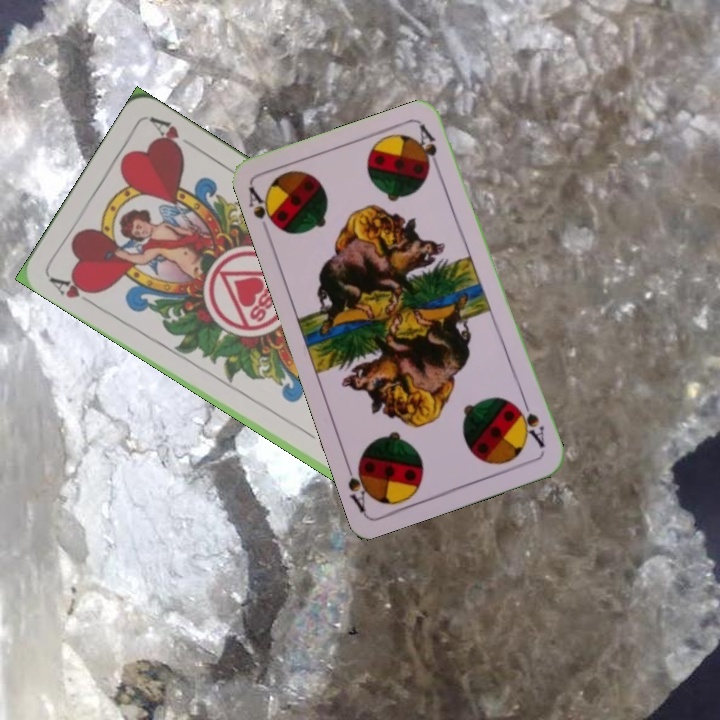HA: (45, 272, 99, 309)
SA: (244, 183, 284, 234), (512, 396, 547, 451)
